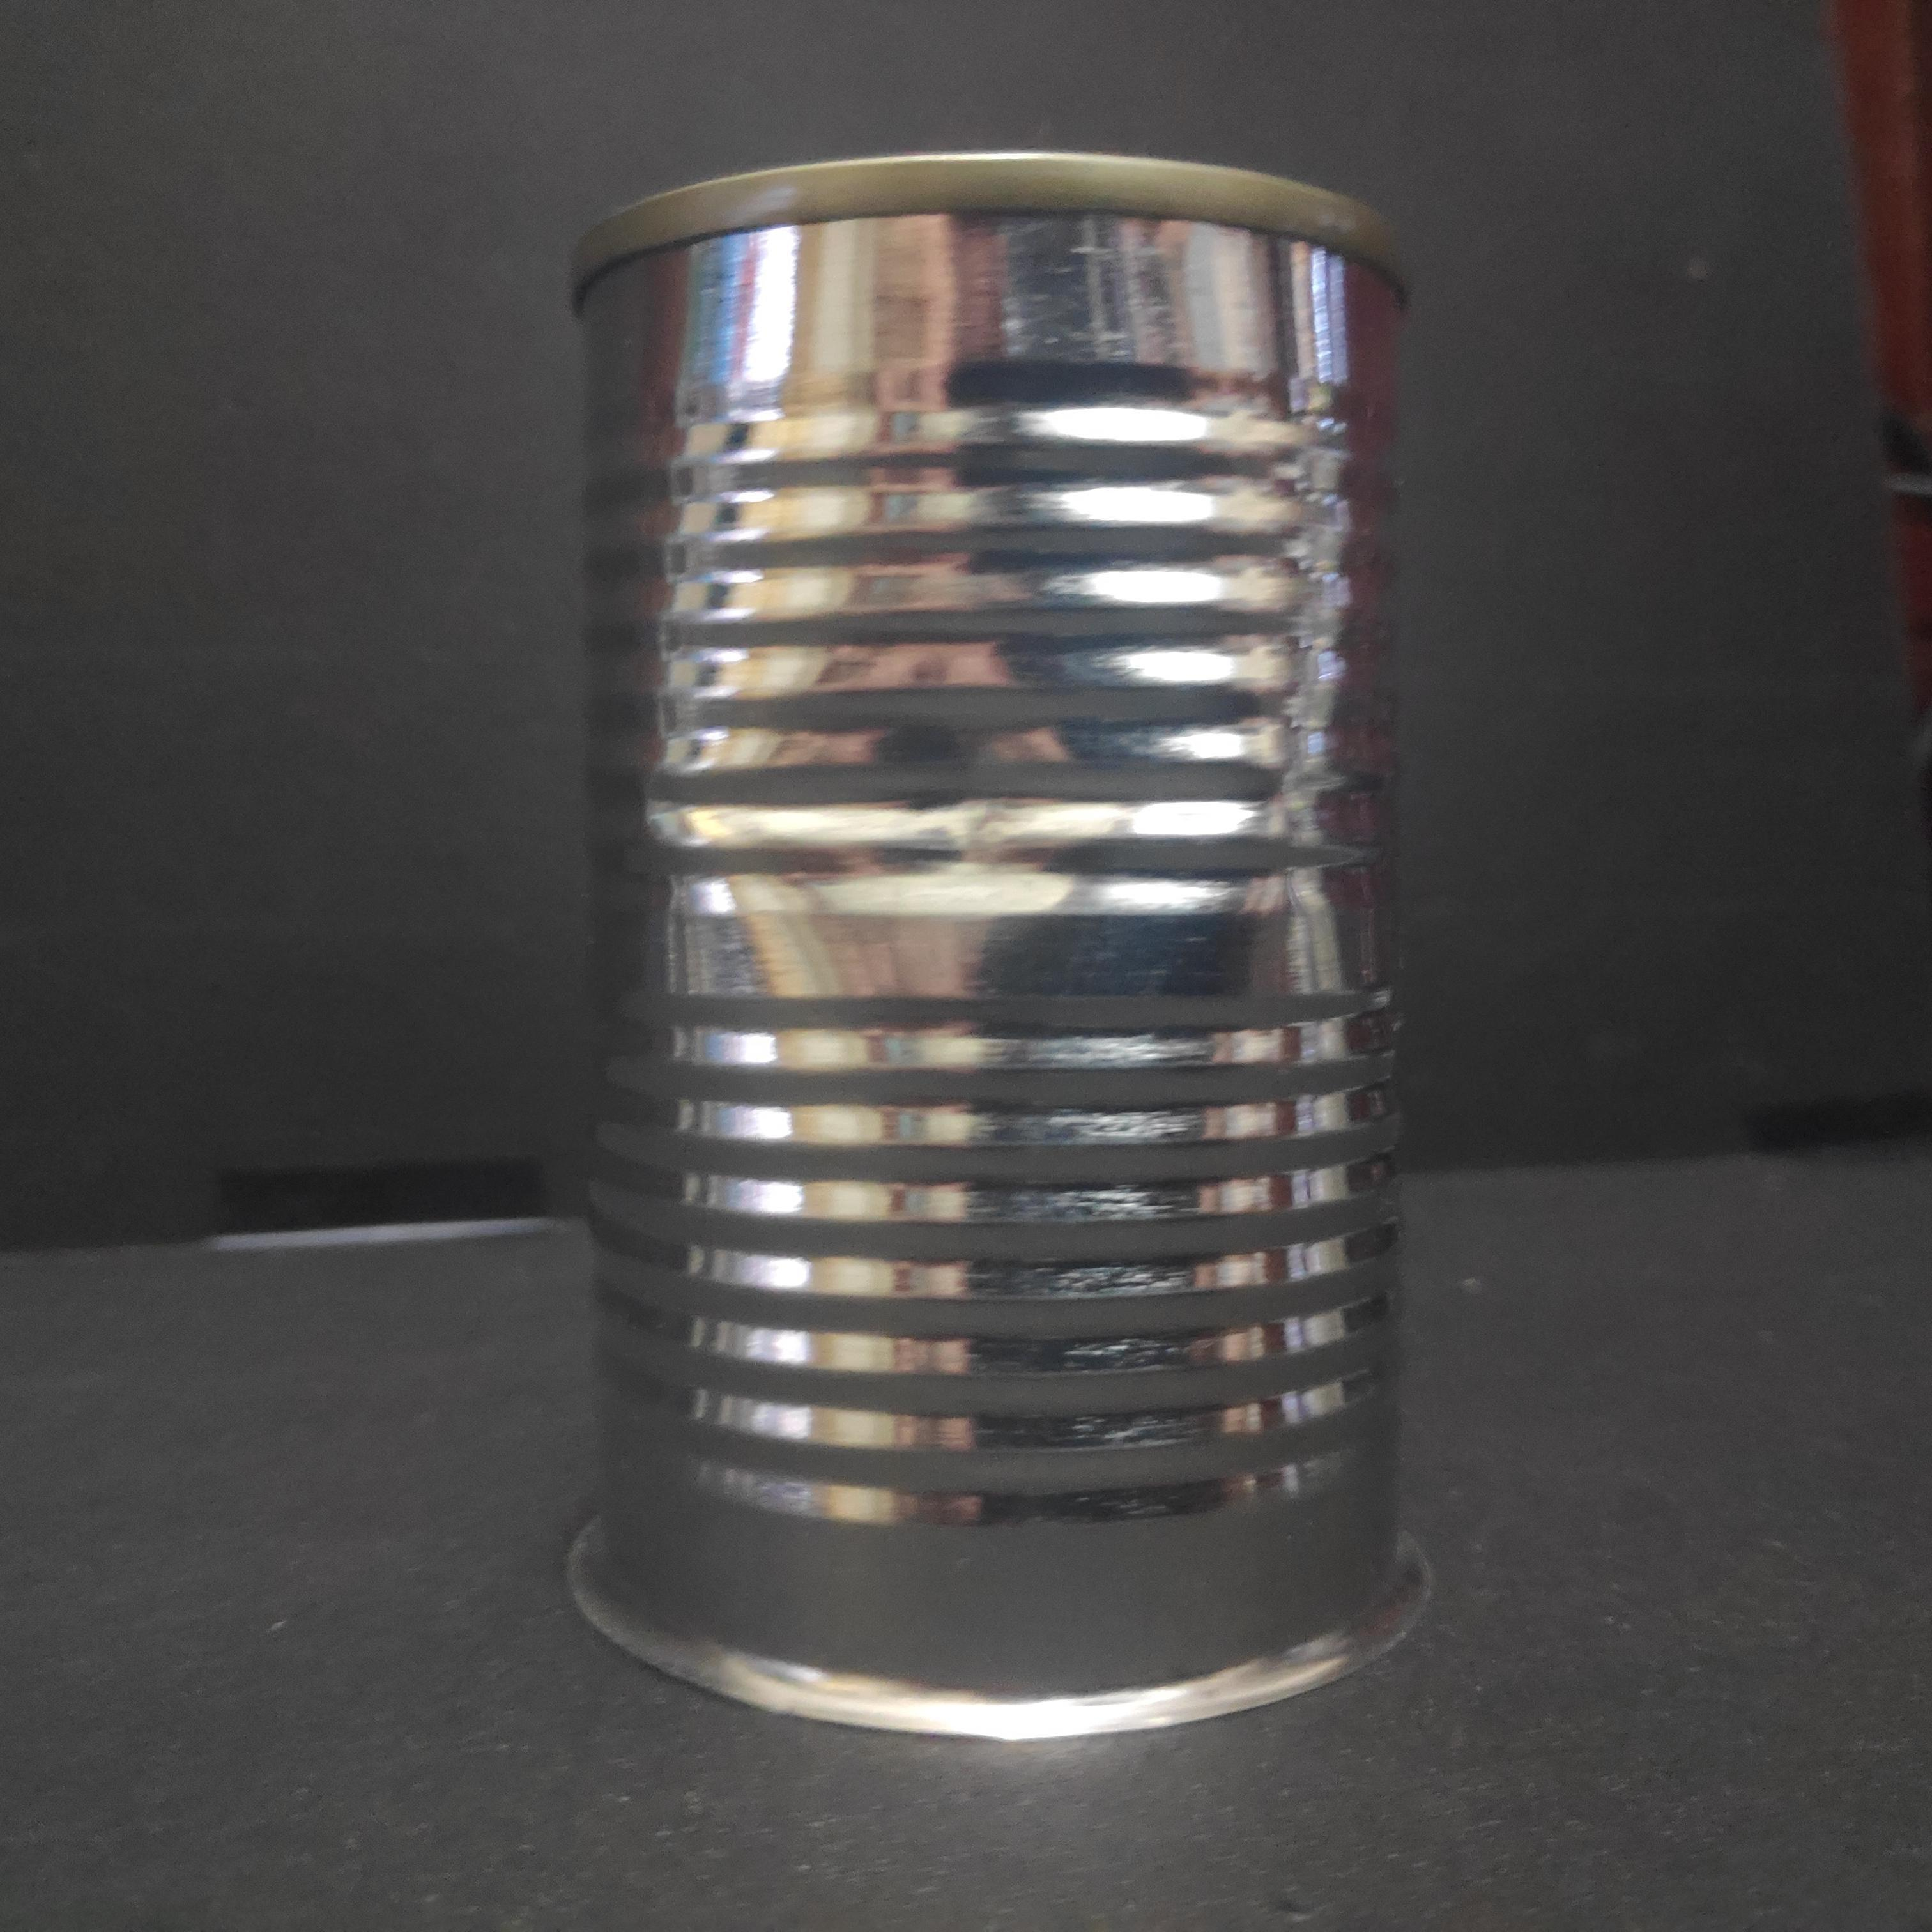Dented: (536, 119, 1440, 1764)
